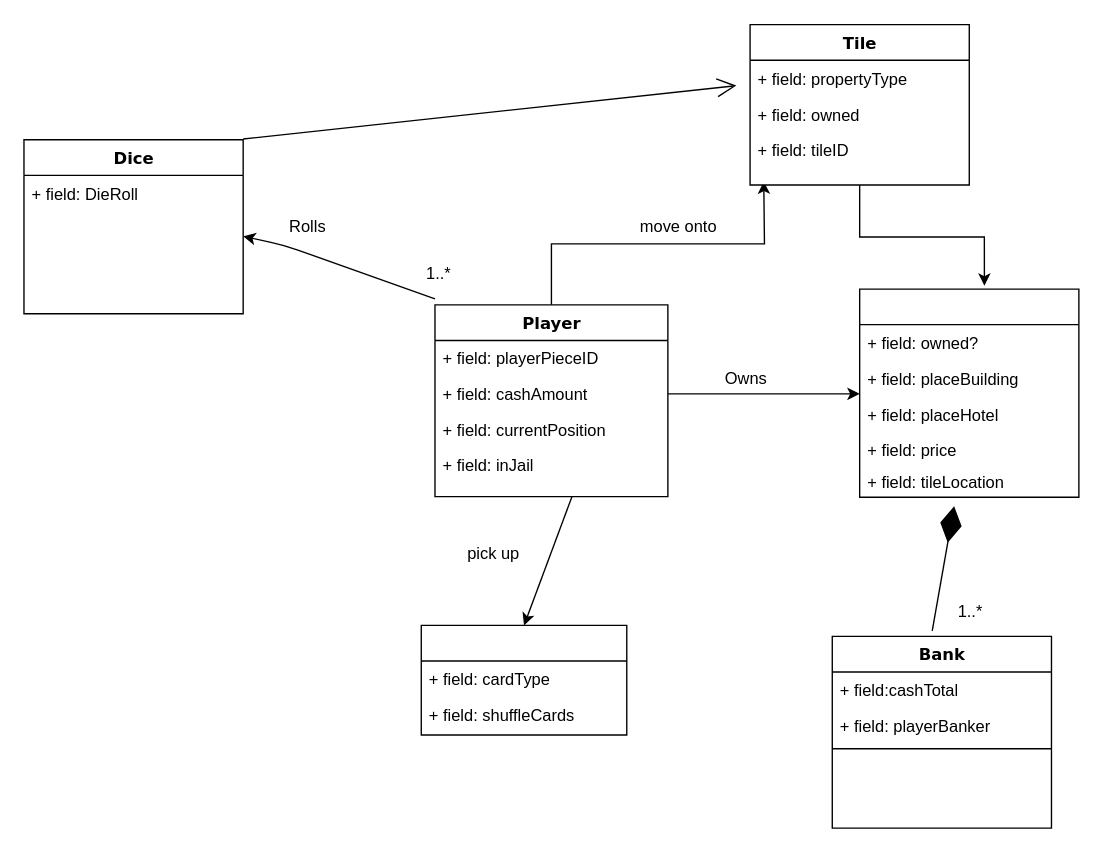
The diagram is 1103 pixels wide and 852 high, and some of its shapes have lost their labels. The box of each missing label's shape, as (x1, y1, x2, y2) in pixels:
Card Stack: (420, 624, 627, 735)
Property: (858, 288, 1079, 497)
